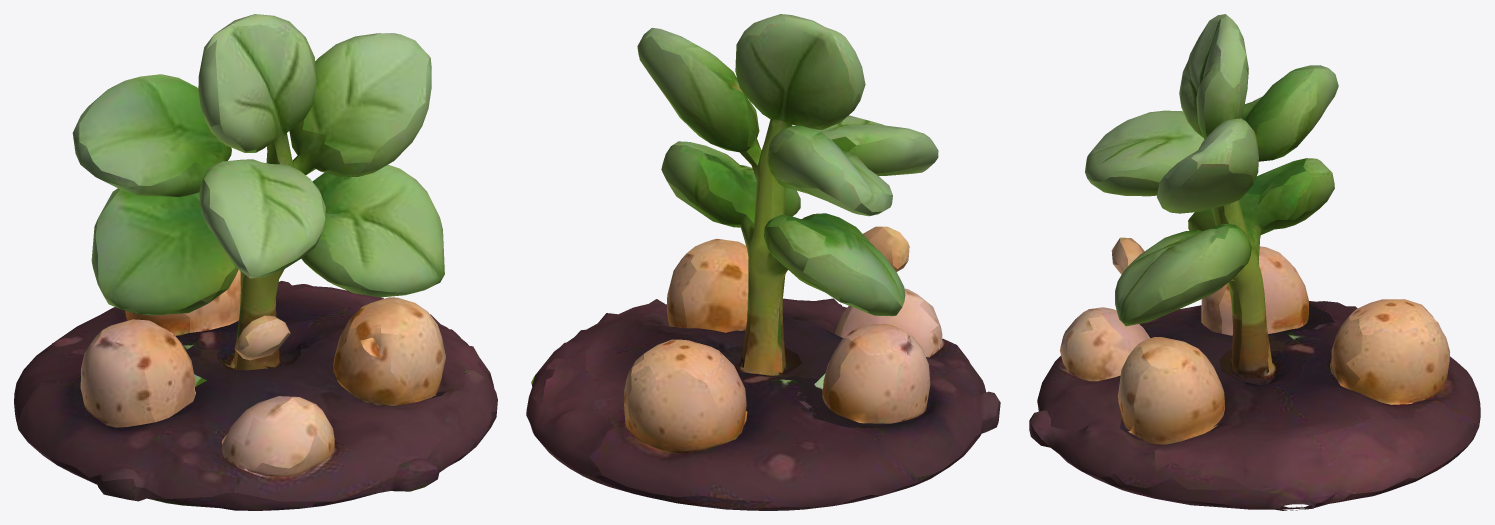
File: crop_potato.glb
The picture shows the model from 3 angles, left to right: view 1: azimuth 30°, elevation 25°; view 2: azimuth 150°, elevation 25°; view 3: azimuth 270°, elevation 25°; orthographic projection. The views are drawn at different scales.
Parts seen in each view (by area): view 1: crop_potato_s15; view 2: crop_potato_s15; view 3: crop_potato_s15.
Boxes of the visible parts, left/top/right/bottom form: crop_potato_s15: left=14, top=14, right=497, bottom=510; crop_potato_s15: left=526, top=14, right=1000, bottom=510; crop_potato_s15: left=1029, top=14, right=1480, bottom=510.
Size of the model in its own units: 1 by 0.935 by 0.9965.
1 material, 1 textured.
